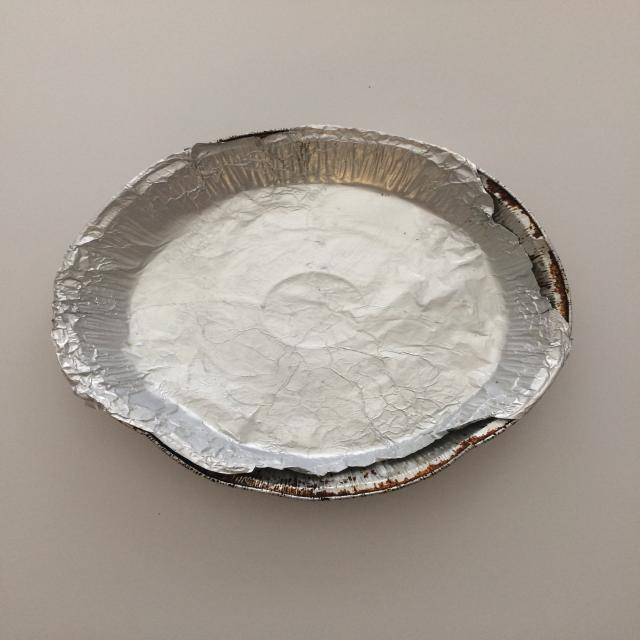metal: (50, 124, 574, 501)
